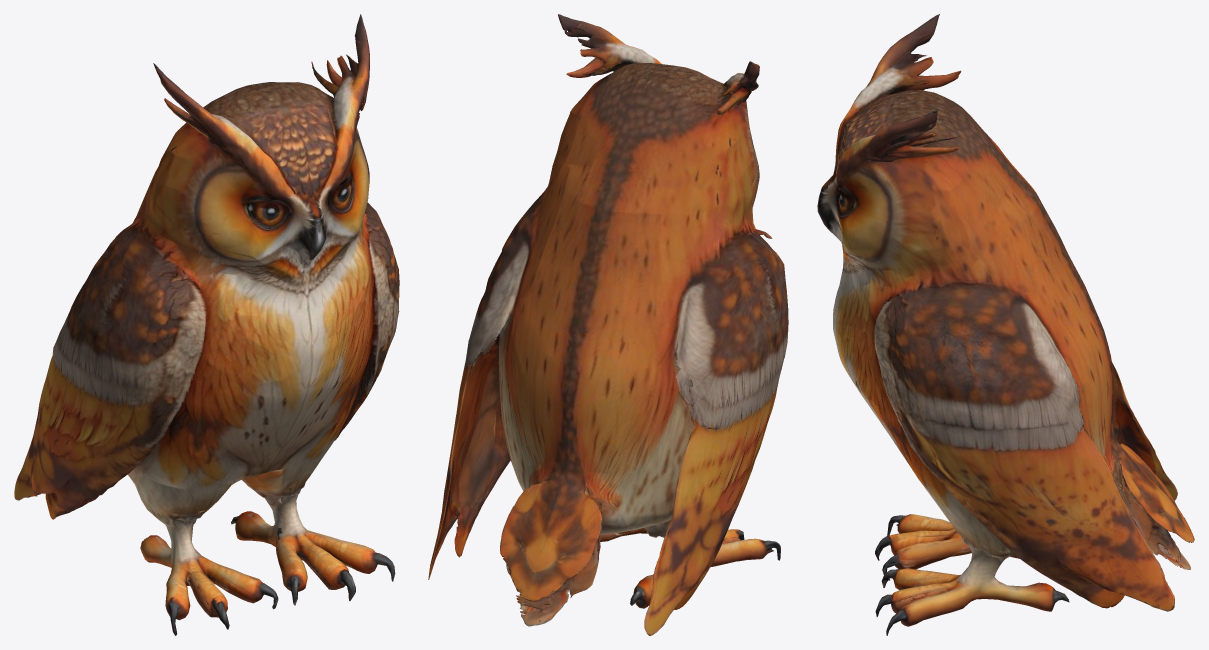
Rendered from owl.glb.
The picture shows the model from 3 angles, left to right: view 1: azimuth 30°, elevation 25°; view 2: azimuth 150°, elevation 25°; view 3: azimuth 270°, elevation 25°; orthographic projection. The views are drawn at different scales.
Size of the model in its own units: 1.11 by 1.98 by 1.28.
Materials: 1 (1 with a texture image).
